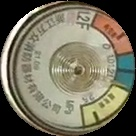green: (115, 54, 136, 89)
needle: (105, 78, 132, 91)
red: (92, 12, 134, 53)
yellow: (82, 86, 129, 128)
